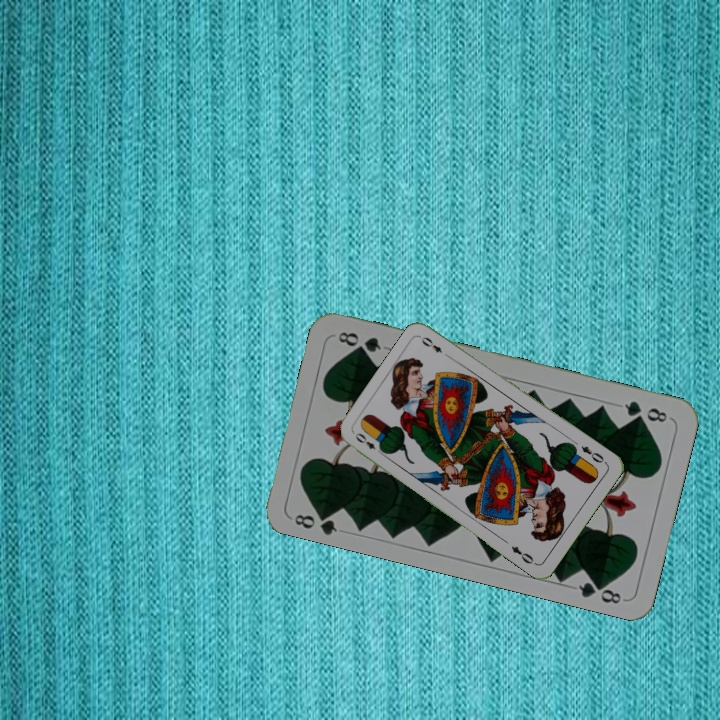EO: (351, 429, 386, 457), (577, 442, 609, 466)
G8: (290, 505, 340, 537), (620, 397, 670, 425)
